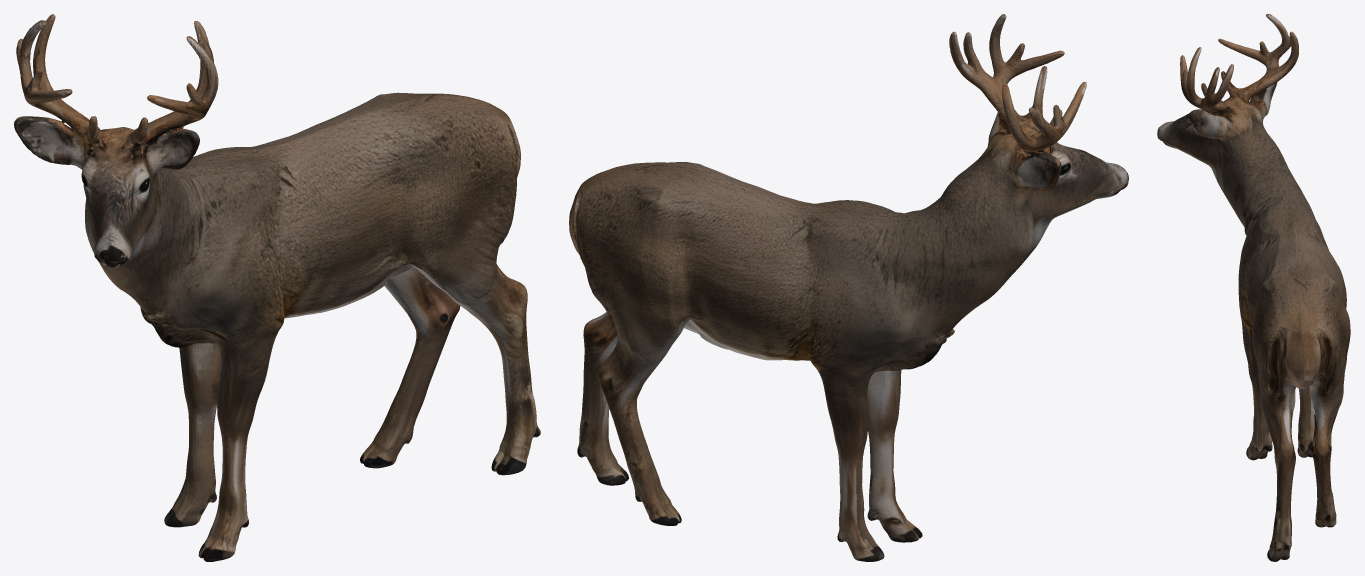
The model's file is deer_hunyuan.glb.
3 renders of one model, left to right at view 1: azimuth 30°, elevation 25°; view 2: azimuth 150°, elevation 25°; view 3: azimuth 270°, elevation 25°, orthographic. The views are drawn at different scales.
Parts seen in each view (by area): view 1: demo_textured.obj; view 2: demo_textured.obj; view 3: demo_textured.obj.
Boxes of the visible parts, x1,y1,x2,y2 form: demo_textured.obj: (14,14,540,561); demo_textured.obj: (569,14,1128,561); demo_textured.obj: (1157,14,1350,561).
Bounding box in the file's own units: 1.93 × 1.99 × 0.8978.
1 material, 1 textured.
